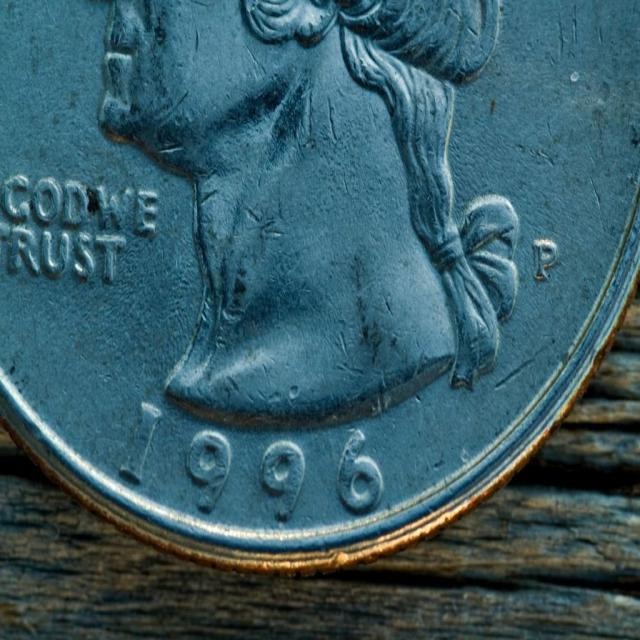Coin: (0, 0, 640, 561)
